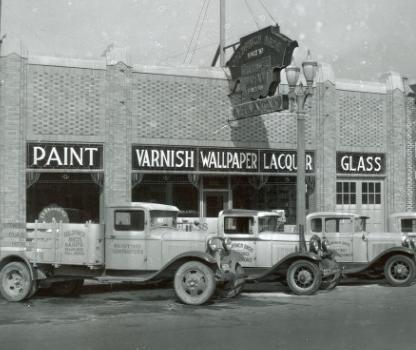truck: (0, 204, 245, 302), (213, 210, 344, 297), (281, 208, 416, 288), (388, 212, 416, 241)
